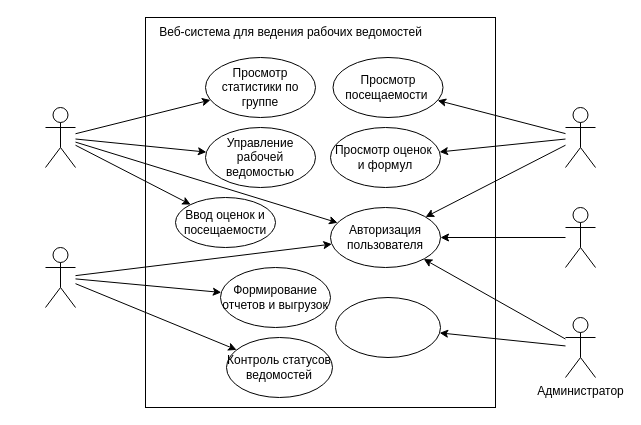
This 641x425 diagram has some shape labels left out. The centre of each missing label's shape, as x and y in pixels:
"SSO" belongs at (580,237).
"Преподаватель" belongs at (60,137).
"Просмотр журнала действий" belongs at (387,327).
"Студент" belongs at (580,137).
"Учебный офис" belongs at (60,277).
